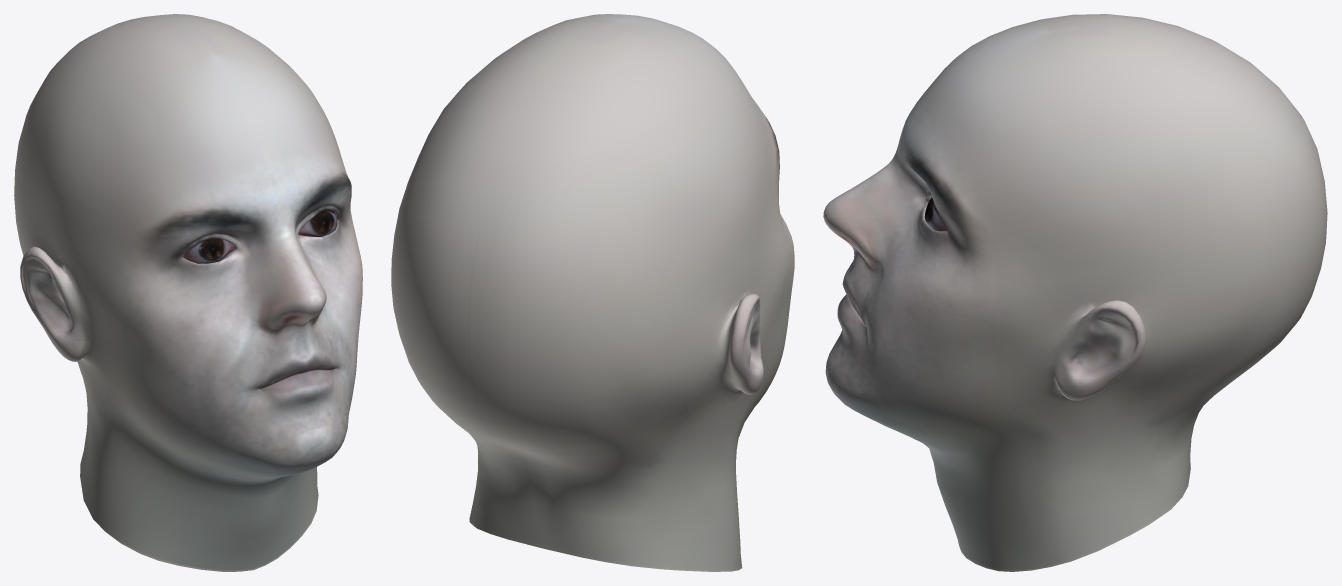
3 renders of one model, left to right at view 1: azimuth 30°, elevation 25°; view 2: azimuth 150°, elevation 25°; view 3: azimuth 270°, elevation 25°, orthographic. The views are drawn at different scales.
Visible parts, largest first — view 1: skin_hi, eyeR_hi, eyeL_hi; view 2: skin_hi; view 3: skin_hi.
Part boxes in pixels (x1=…): skin_hi: x1=14, y1=14, x2=362, y2=571; eyeR_hi: x1=183, y1=238, x2=234, y2=263; eyeL_hi: x1=298, y1=209, x2=337, y2=236; skin_hi: x1=391, y1=14, x2=794, y2=571; skin_hi: x1=823, y1=14, x2=1327, y2=571.
Size of the model in its own units: 179 by 277 by 244.
